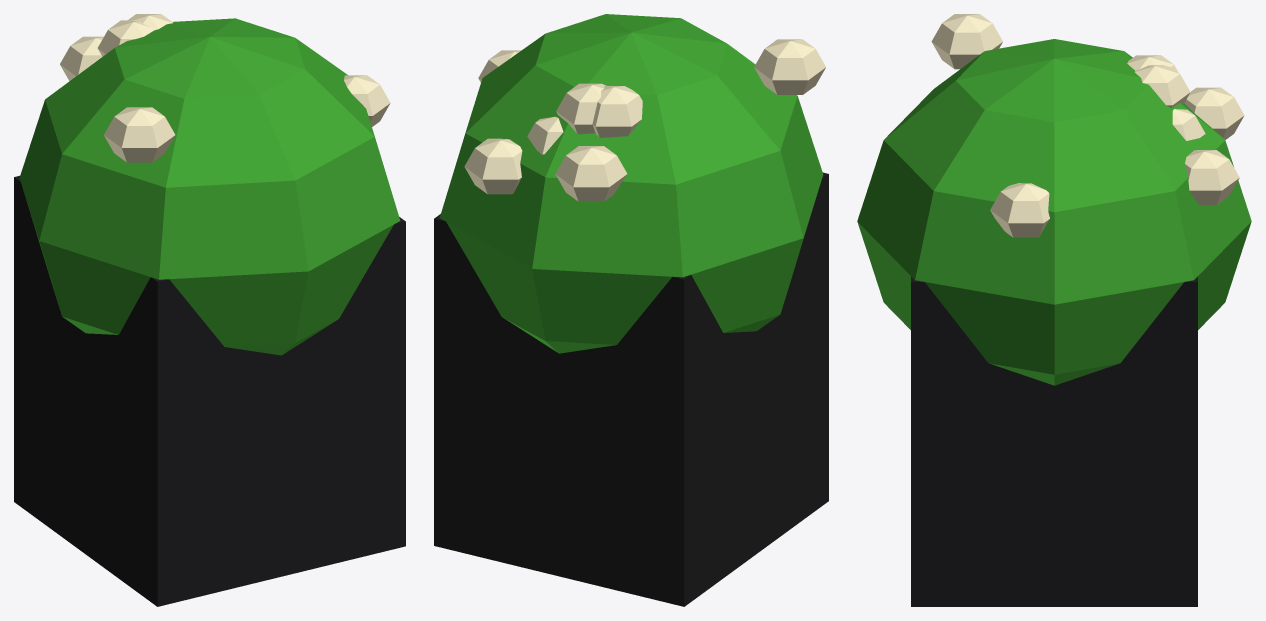
The model's file is env_kb_flower_pot_white.fbx.
3 renders of one model, left to right at view 1: azimuth 30°, elevation 25°; view 2: azimuth 150°, elevation 25°; view 3: azimuth 270°, elevation 25°, orthographic.
Parts seen in each view (by area): view 1: COL_env_kb_flower_pot_white, env_kb_flower_pot_white_geo_LOD0; view 2: COL_env_kb_flower_pot_white, env_kb_flower_pot_white_geo_LOD0; view 3: env_kb_flower_pot_white_geo_LOD0, COL_env_kb_flower_pot_white.
Boxes of the visible parts, x1,y1,x2,y2 form: COL_env_kb_flower_pot_white: [14, 175, 405, 606]; env_kb_flower_pot_white_geo_LOD0: [19, 14, 400, 355]; COL_env_kb_flower_pot_white: [434, 172, 828, 606]; env_kb_flower_pot_white_geo_LOD0: [439, 14, 825, 353]; env_kb_flower_pot_white_geo_LOD0: [857, 14, 1251, 385]; COL_env_kb_flower_pot_white: [911, 276, 1197, 606].
Size of what is drawn, in the model's own units: 1.1 by 1.5 by 1.1.
